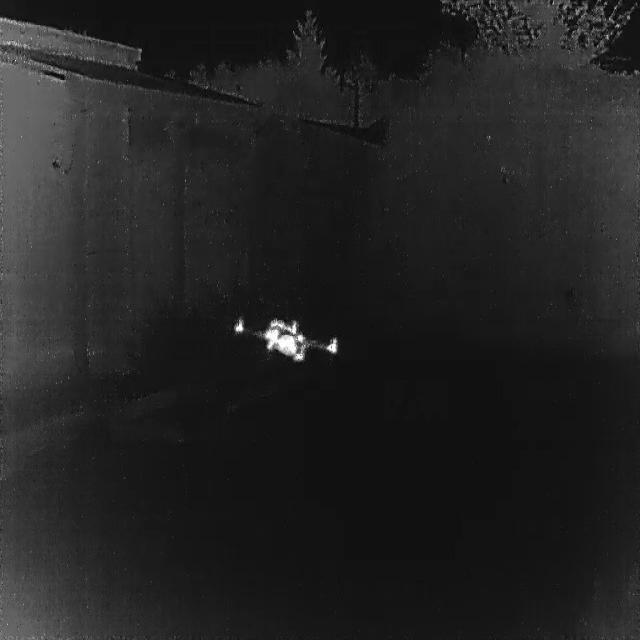drone: (232, 315, 340, 364)
